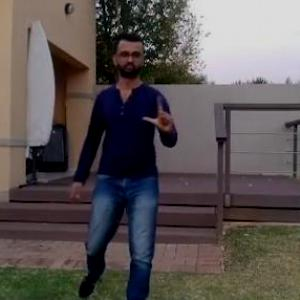land_hand: (140, 89, 178, 138)
